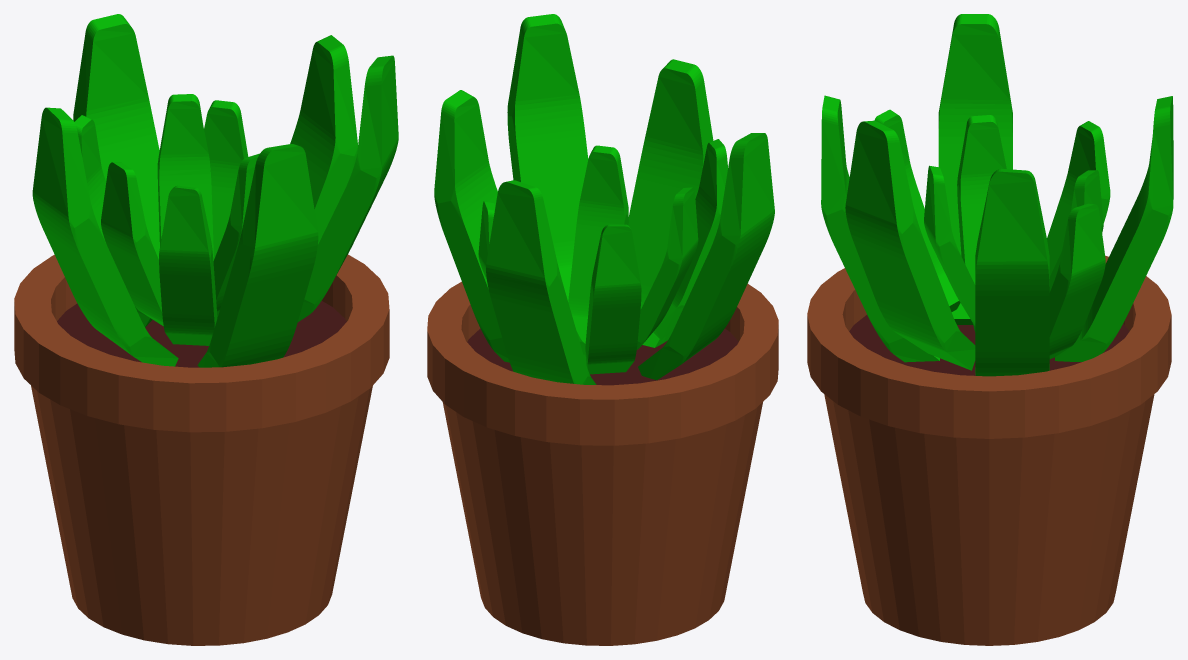
Rendered from plant.glb.
3 views of the same model, side by side, from view 1: azimuth 30°, elevation 25°; view 2: azimuth 150°, elevation 25°; view 3: azimuth 270°, elevation 25° (orthographic). The views are drawn at different scales.
Parts seen in each view (by area): view 1: Cylinder; view 2: Cylinder; view 3: Cylinder.
Part boxes in pixels (<box>): Cylinder: <box>14,14,398,645</box>; Cylinder: <box>427,14,778,645</box>; Cylinder: <box>807,14,1173,645</box>.
Size of the model in its own units: 0.288 by 0.4593 by 0.2898.
